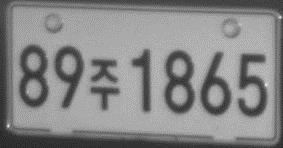1: (130, 46, 153, 114)
5: (237, 53, 267, 118)
6: (199, 50, 231, 116)
8: (164, 48, 194, 115), (18, 43, 48, 108)
9: (54, 43, 84, 109)
주: (88, 57, 120, 112)
